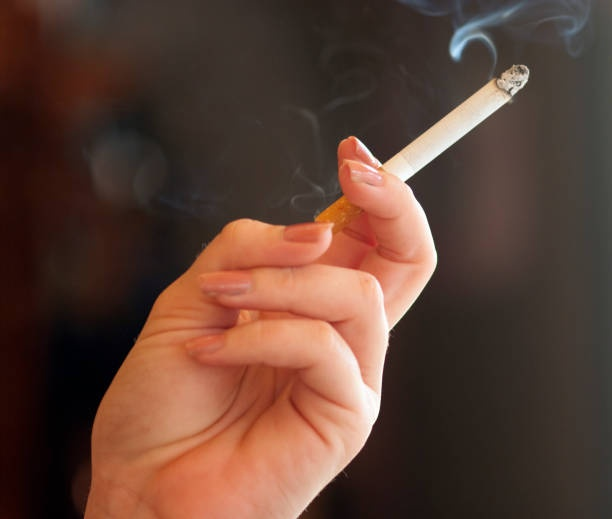sigaretta: (313, 68, 528, 237)
